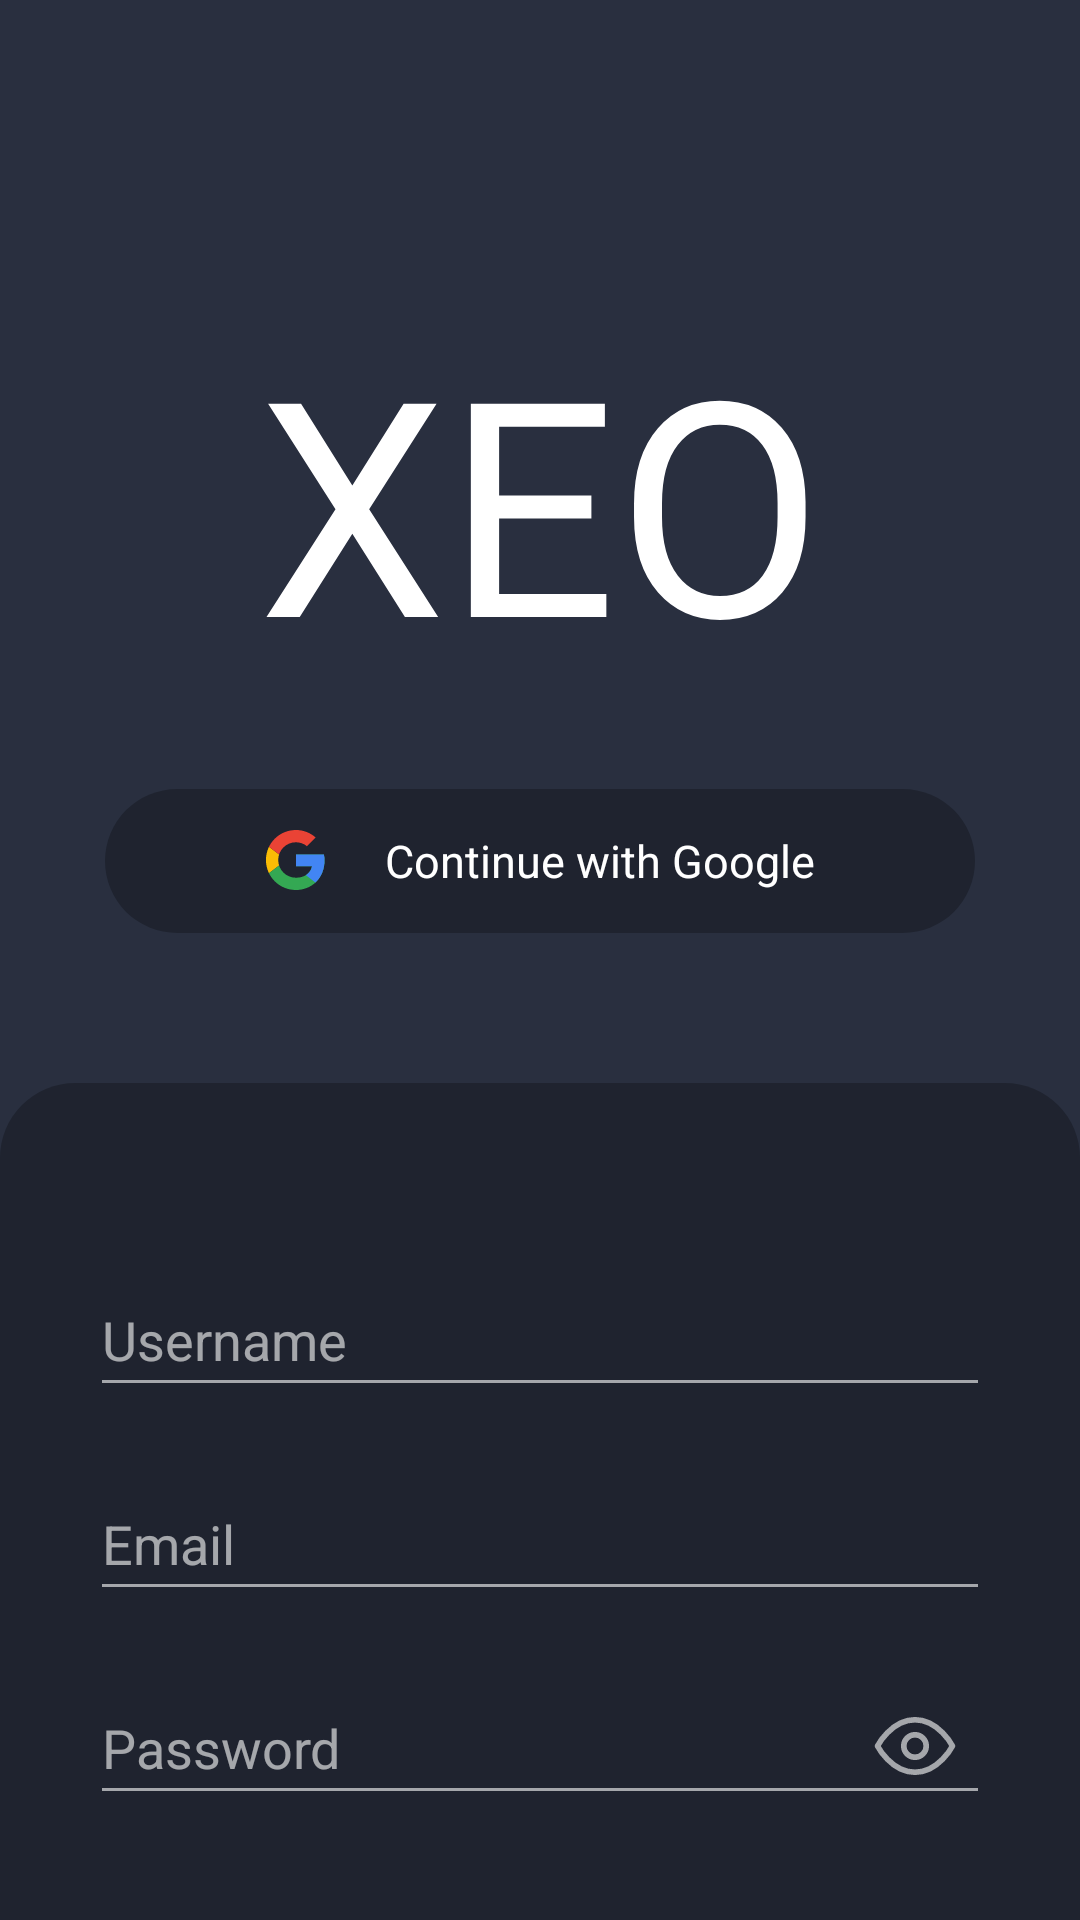

Screen size 1080 x 1920. Icon name, then its box in pixels as {"x1": x1, "y1": y1, "x2": x2, "y2": y2}:
eye open: {"x1": 874, "y1": 1717, "x2": 956, "y2": 1775}
